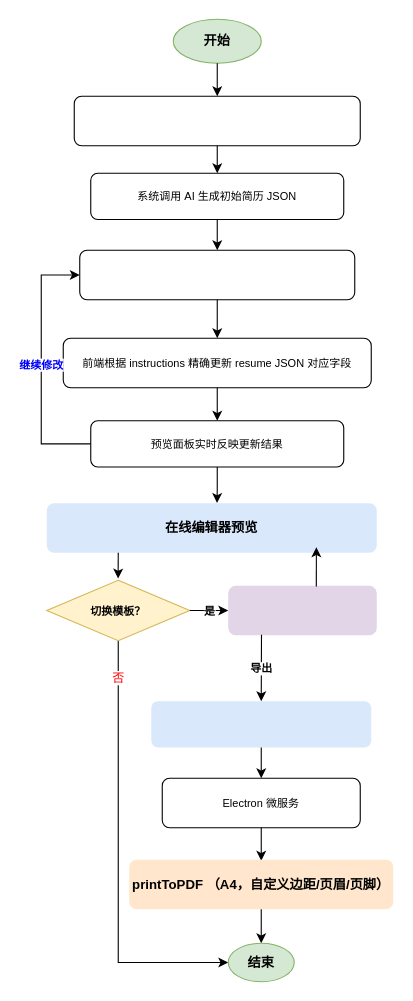
The diagram is 413 pixels wide and 1001 high, and some of its shapes have lost their labels. The box of each missing label's shape, as (x1, y1, x2, y2) in pixels:
前端发送 HTML + options: (150, 700, 371, 747)
应用新模板: (227, 585, 377, 635)
用户在对话输入框发送 自然语言修改指令: (79, 249, 355, 300)
用户填写基本信息: (73, 95, 360, 146)
